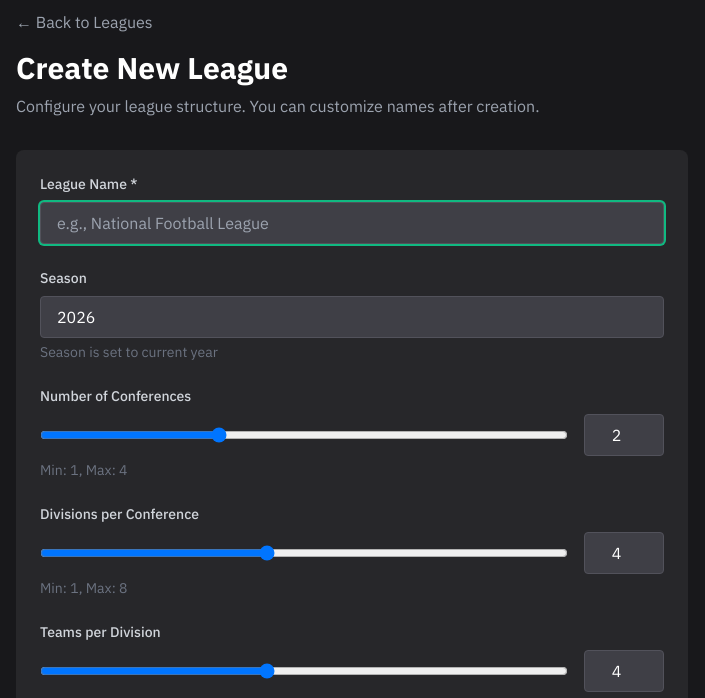
CreateLeaguePage › should update sliders when number inputs change
Expected: the slider labelled "Number of Conferences" is shown, [40, 427, 568, 443]
Replace the text in the 1st number field showing "2" with "3" at (624, 435), box [584, 414, 664, 456]
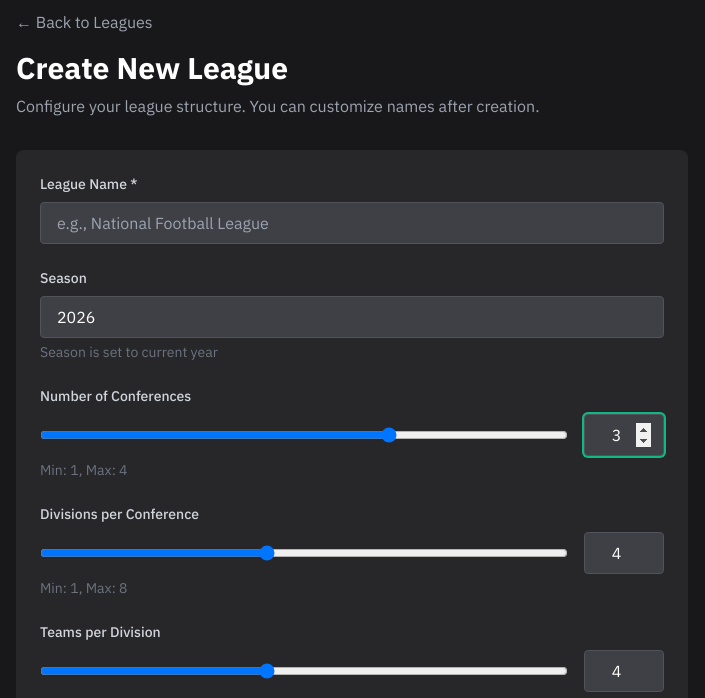
Result: the slider labelled "Number of Conferences" holds "3" at [40, 427, 568, 443]
